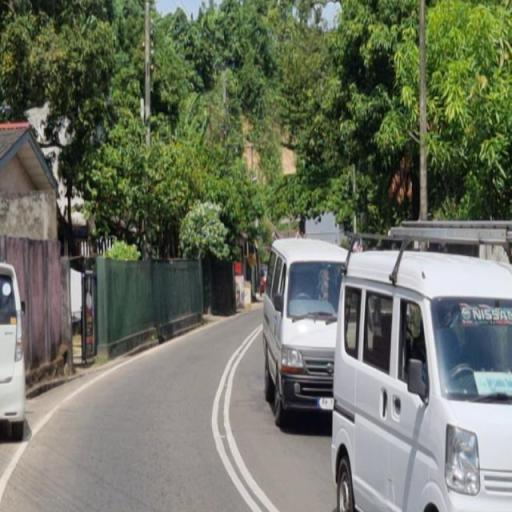double_white_line: (211, 322, 274, 510)
